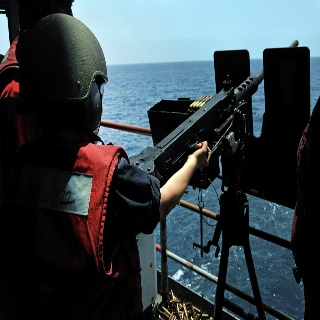rifle: (119, 38, 301, 189)
